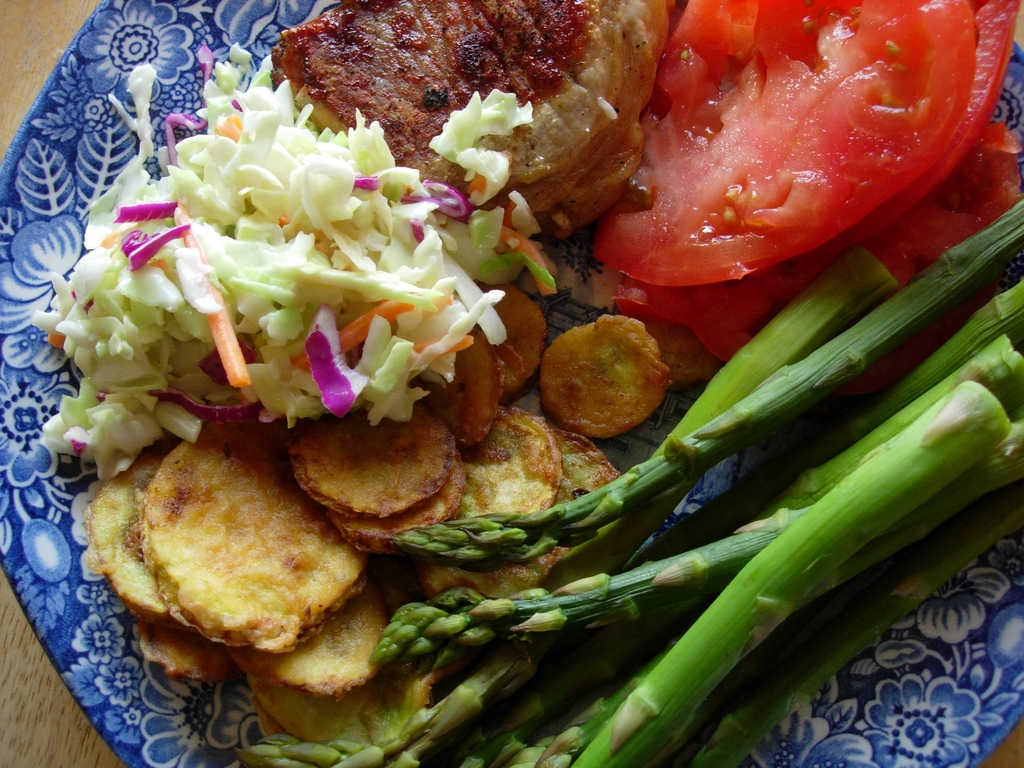salad: (12, 13, 583, 490)
